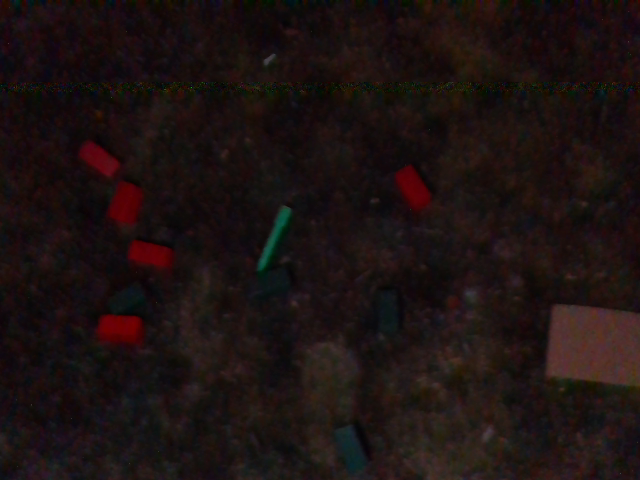Probe: (250, 197, 292, 277)
